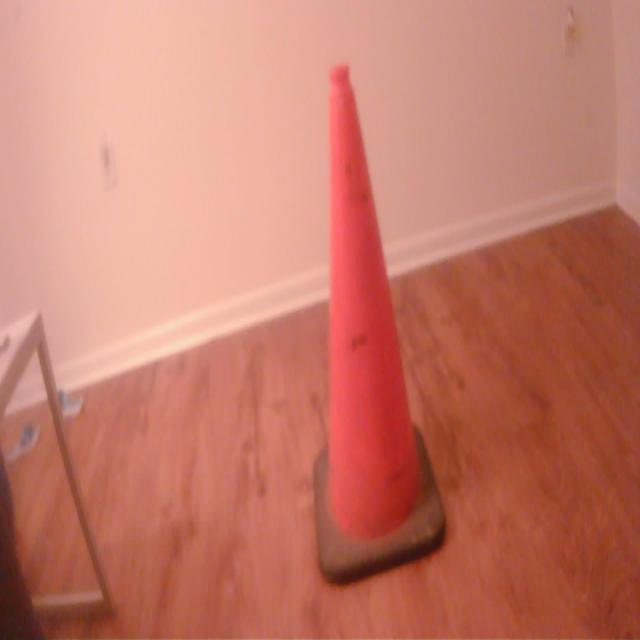traffic cone: (310, 52, 454, 597)
